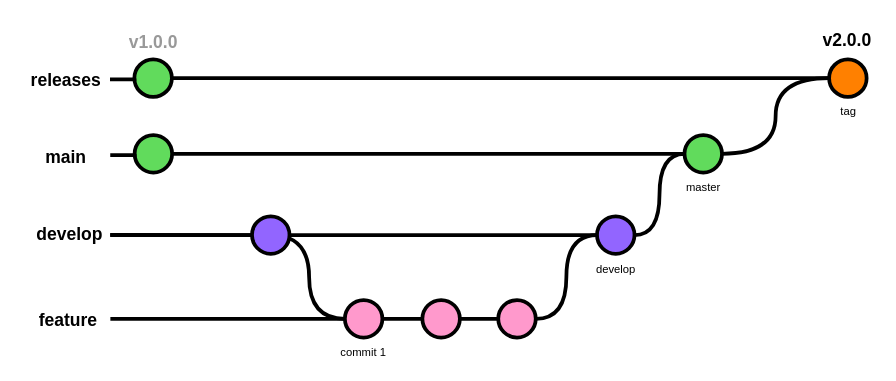
This 896x381 diagram has some shape labels left out. The shapes that lost their labels are listed below. From the top down, each one's box as (x1, y1, x2, y2) in pixels, then its label:
(420, 298, 461, 339): commit 2
(496, 298, 537, 339): commit 3
